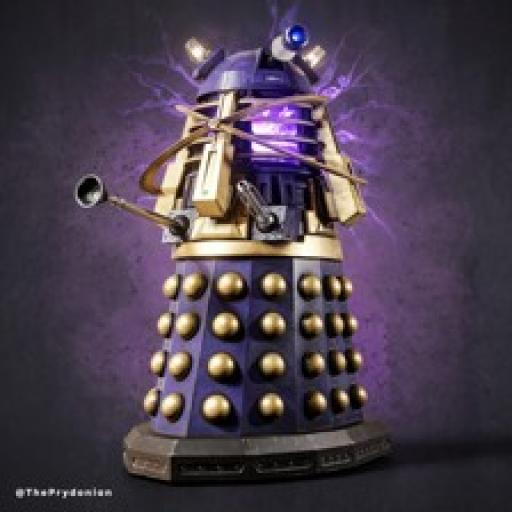dalek: (58, 18, 412, 493)
